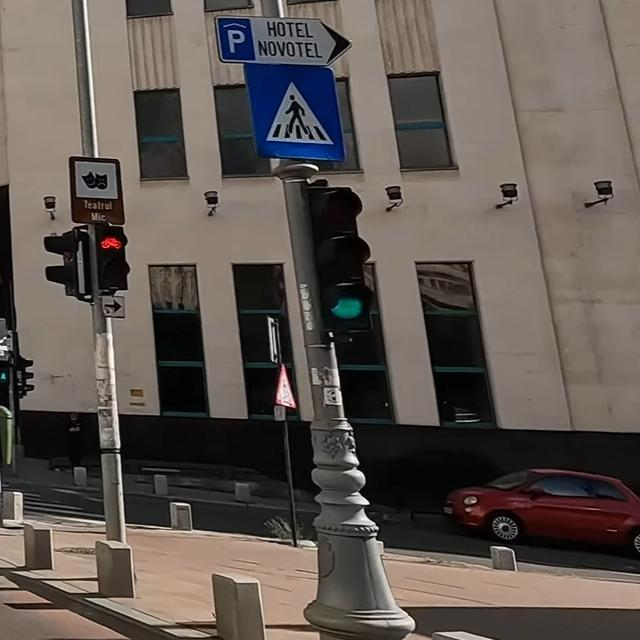info_crosswalk: (247, 62, 345, 161)
